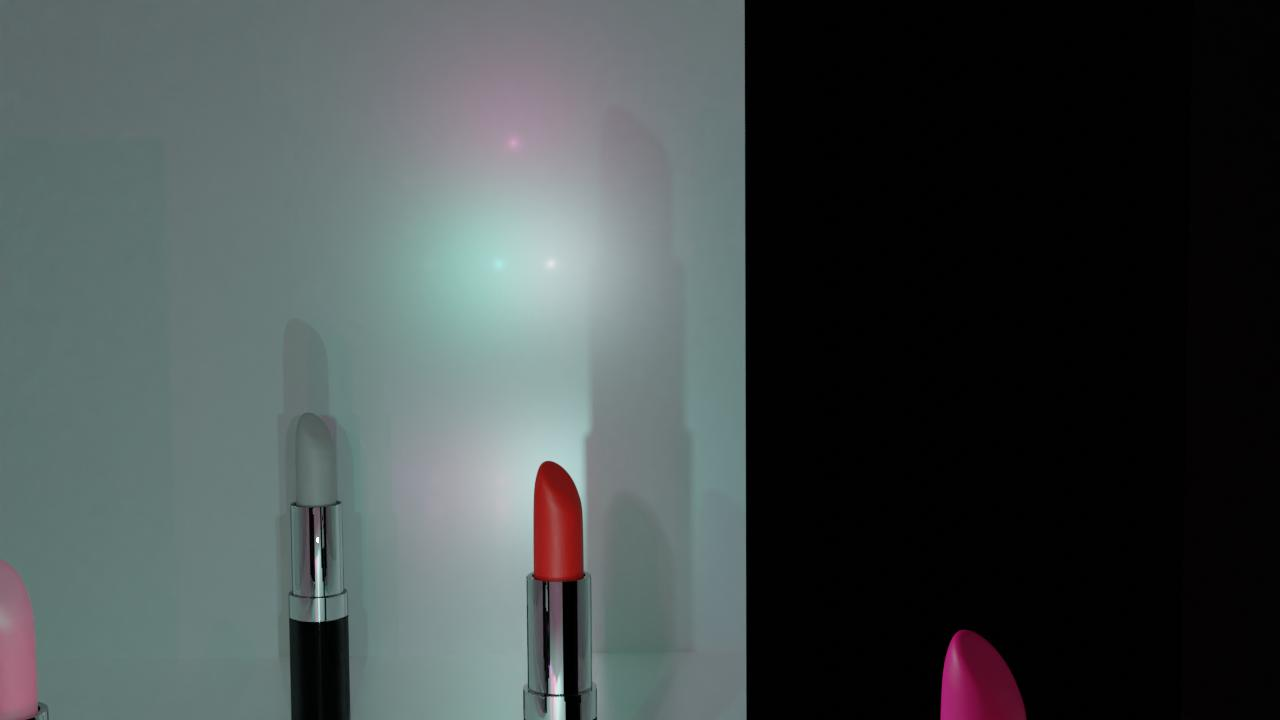CLASSIFIER_NAME: (522, 456, 599, 720), (287, 409, 352, 720), (913, 621, 1049, 720), (0, 550, 69, 720)
